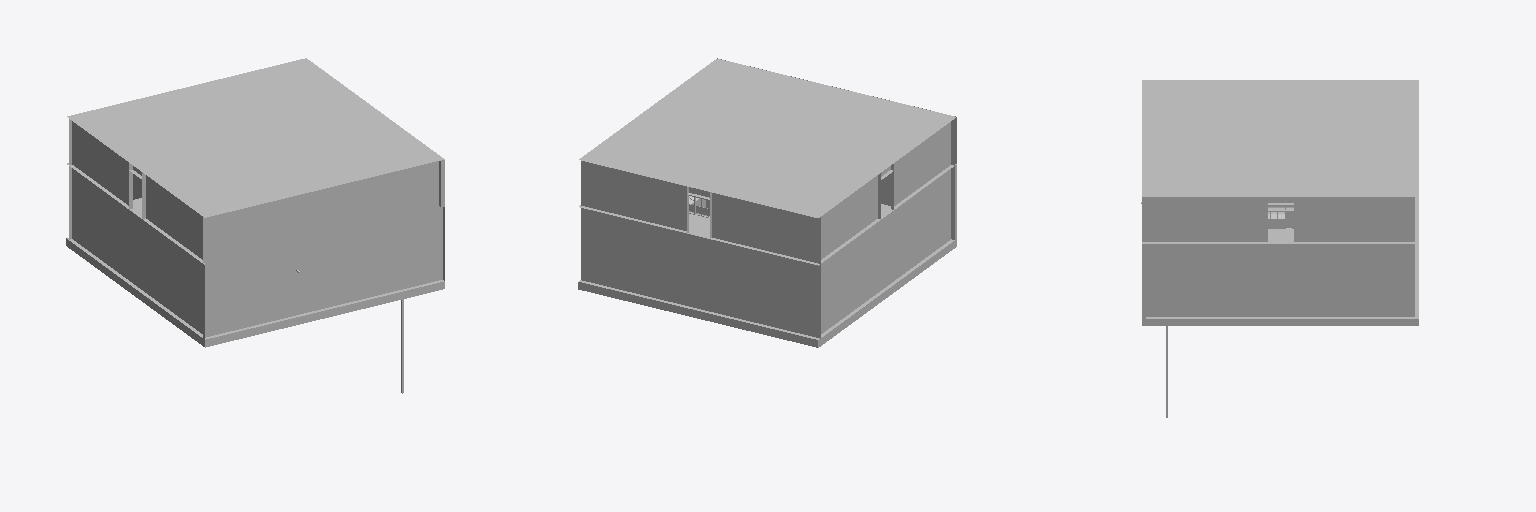
File: OZ_room3_servers2.obj
3 renders of one model, left to right at view 1: azimuth 30°, elevation 25°; view 2: azimuth 150°, elevation 25°; view 3: azimuth 270°, elevation 25°, orthographic.
Parts seen in each view (by area): view 1: OZ_room3_servers2; view 2: OZ_room3_servers2; view 3: OZ_room3_servers2.
Part boxes in pixels (x1,y1,x2,y2): OZ_room3_servers2: (66, 58, 444, 393); OZ_room3_servers2: (578, 58, 956, 347); OZ_room3_servers2: (1141, 80, 1418, 417).
Bounding box in the file's own units: 20.48 × 19.21 × 20.56.